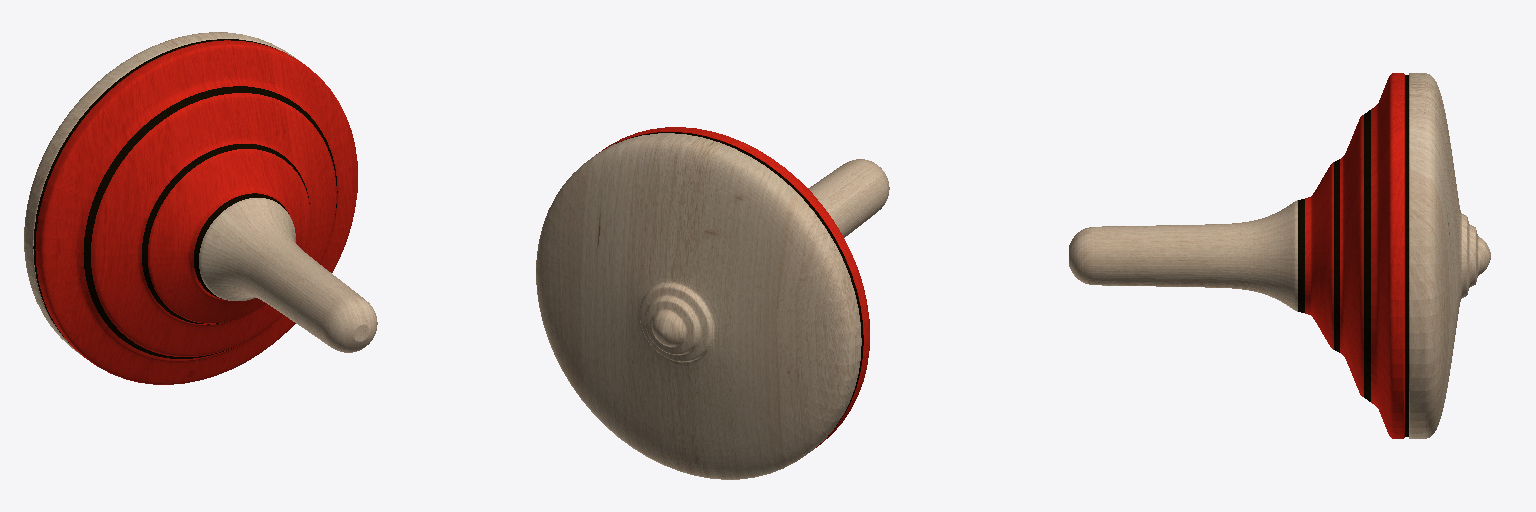
3 views of the same model, side by side, from view 1: azimuth 30°, elevation 25°; view 2: azimuth 150°, elevation 25°; view 3: azimuth 270°, elevation 25° (orthographic).
Parts seen in each view (by area): view 1: Spinning_Top; view 2: Spinning_Top; view 3: Spinning_Top.
Boxes of the visible parts, box(x1,y1,x2,y2) form: Spinning_Top: box(24, 32, 377, 384); Spinning_Top: box(536, 127, 889, 479); Spinning_Top: box(1069, 73, 1490, 438).
Bounding box in the file's own units: 4.4 × 4.4 × 5.08.
Materials: 1 (1 with a texture image).